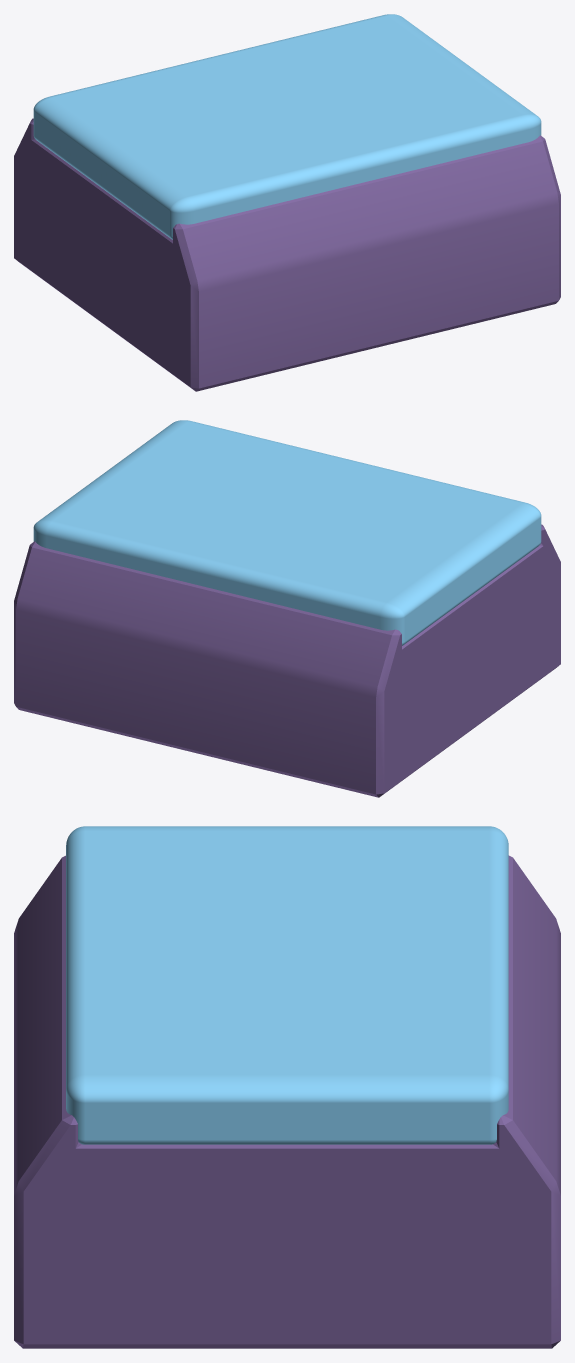
3 views of the same model, one above another, from view 1: azimuth 30°, elevation 25°; view 2: azimuth 150°, elevation 25°; view 3: azimuth 270°, elevation 25° (orthographic). The views are drawn at different scales.
Visible parts, largest first — view 1: Cube.001, Plane.013; view 2: Cube.001, Plane.013; view 3: Plane.013, Cube.001.
Part boxes in pixels (x1,y1,x2,y2): Cube.001: [14, 118, 560, 391]; Plane.013: [33, 14, 541, 239]; Cube.001: [14, 524, 560, 797]; Plane.013: [33, 420, 541, 645]; Plane.013: [66, 826, 508, 1144]; Cube.001: [14, 855, 560, 1348].
Bounding box in the file's own units: 155 × 70.78 × 133.
